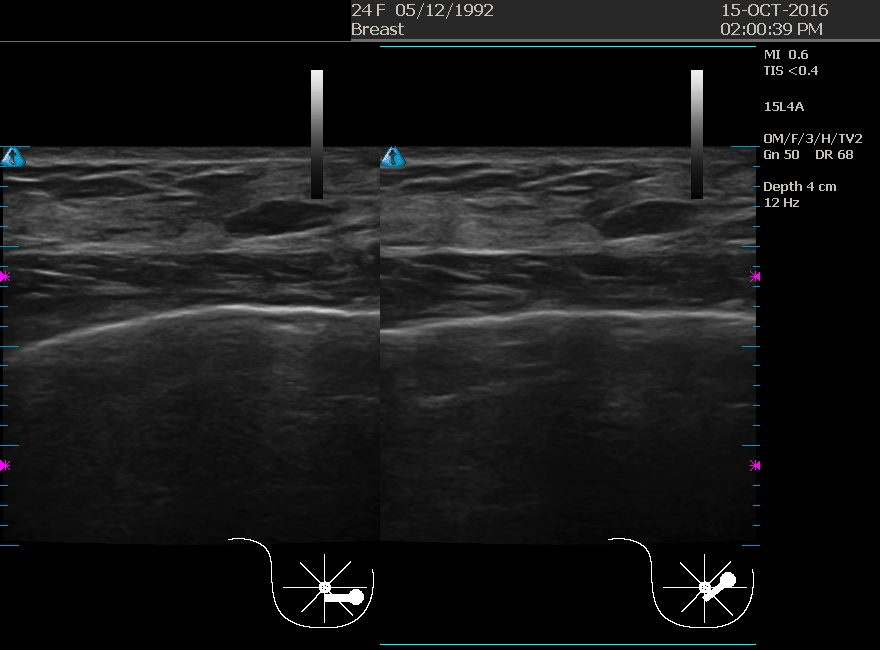BIRADS_3: (176, 199, 376, 399), (541, 200, 741, 400)
